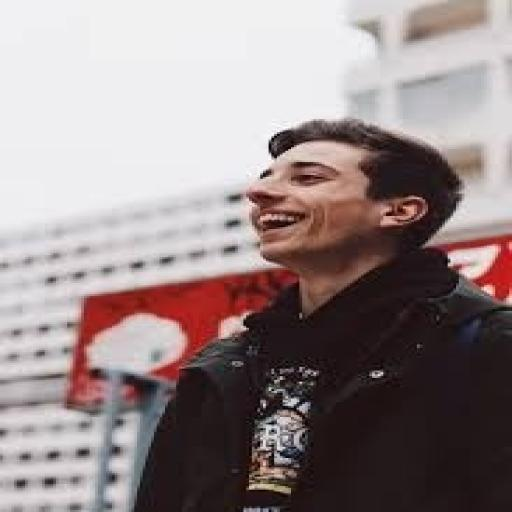laughing: (123, 112, 507, 510)
